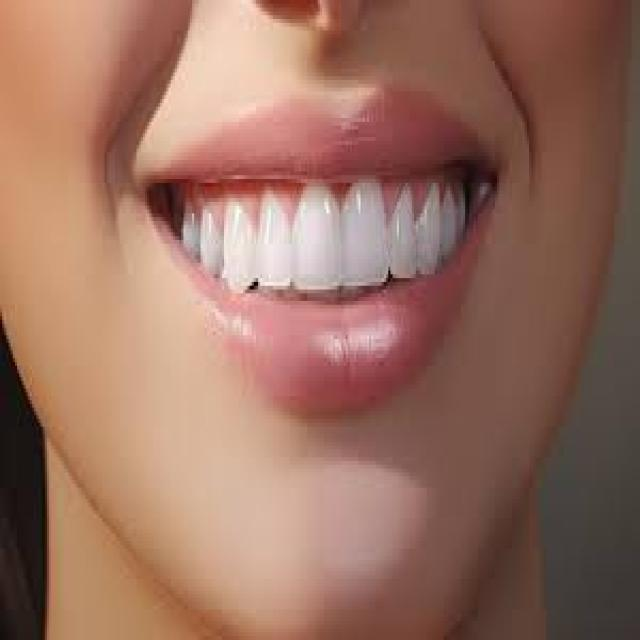tooth: (346, 168, 386, 286), (299, 187, 341, 293), (260, 206, 294, 293), (393, 198, 420, 286), (228, 210, 254, 297), (200, 213, 220, 290), (426, 202, 442, 267), (446, 194, 459, 256), (184, 206, 196, 266), (158, 187, 171, 213), (175, 183, 183, 217)
